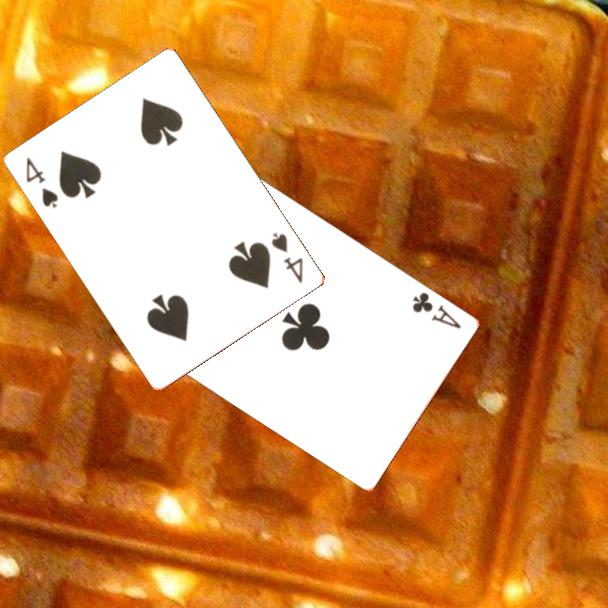c01: (409, 288, 465, 332)
s04: (23, 153, 62, 211), (268, 229, 307, 286)
